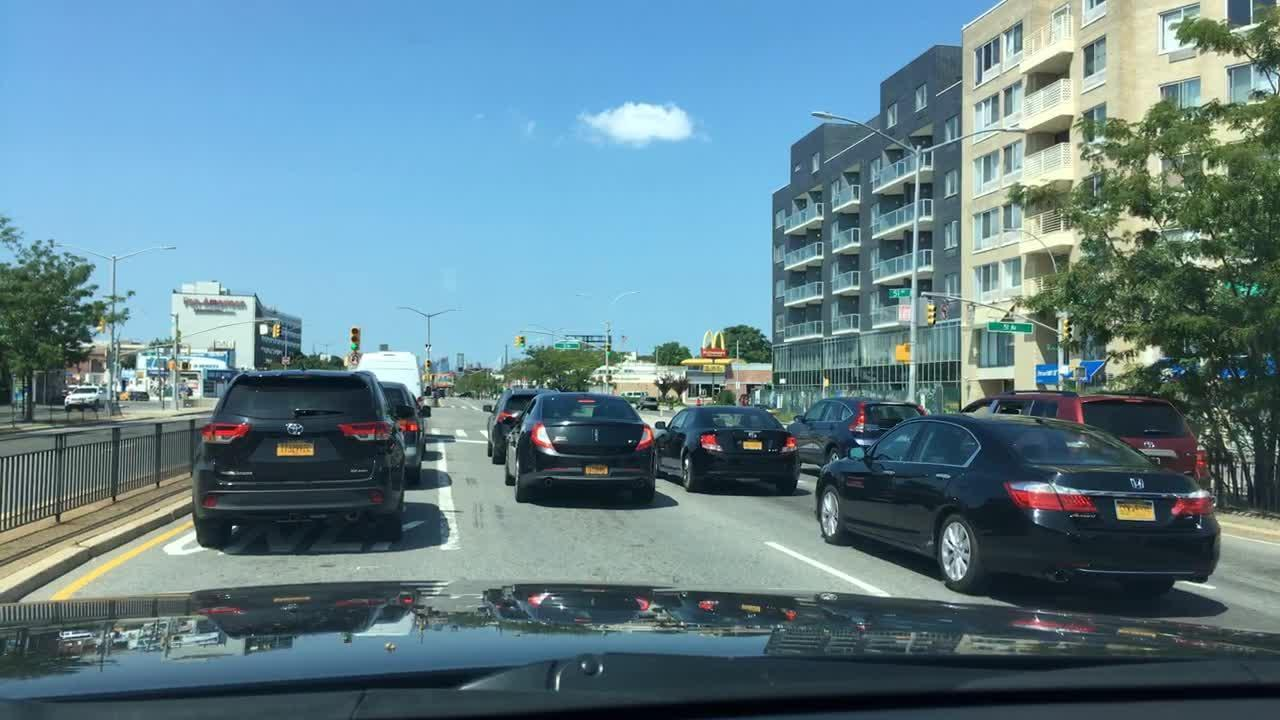Honda: (1123, 467, 1153, 498)
Toyota: (277, 418, 314, 439)
lincoln: (591, 424, 602, 449)
